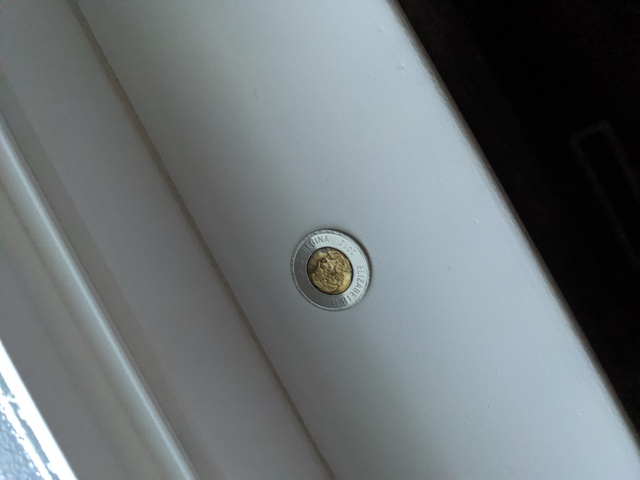twonie: (283, 228, 383, 316)
